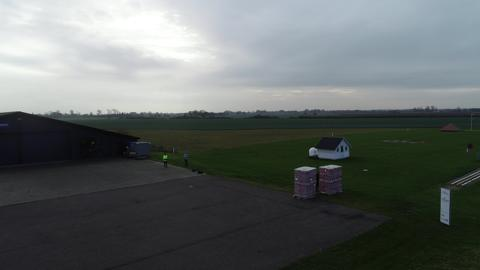RockwoolPallet: (320, 163, 341, 191)
